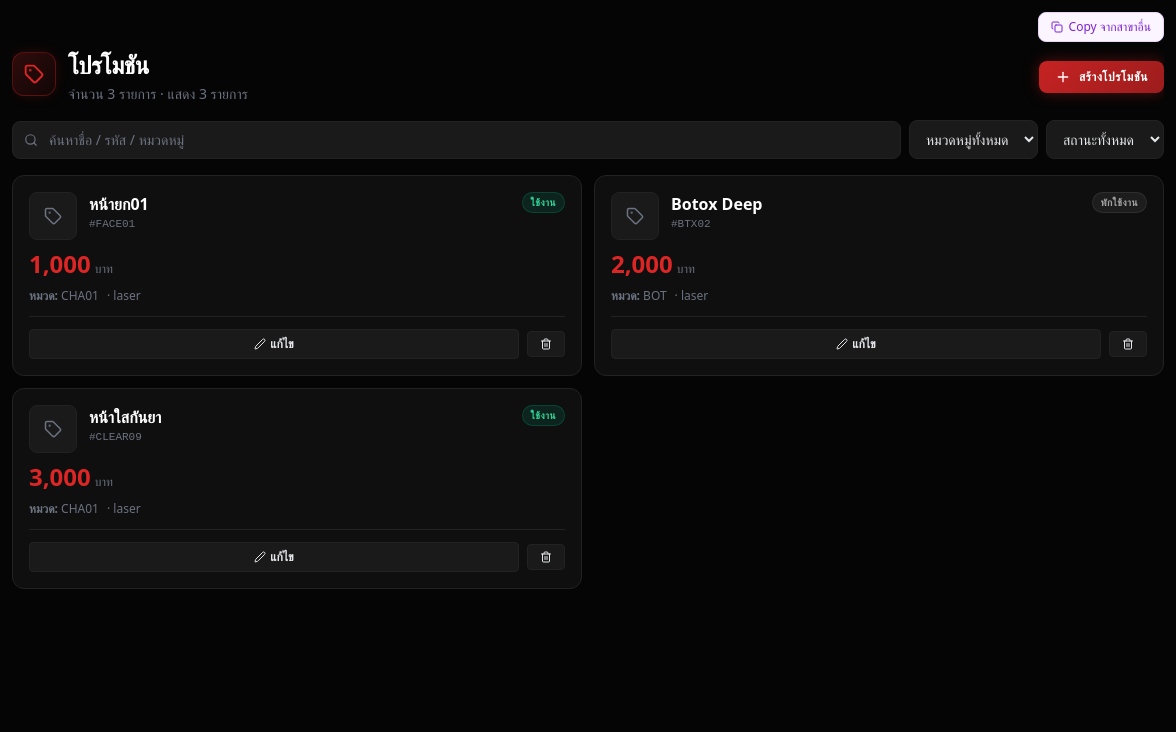
Test case: PromotionTab — search + filter › F6 status filter "suspended" shows only suspended
Select "พักใช้งาน" in the 2nd dropdown: point(1105, 140) x1=1046 y1=120 x2=1164 y2=159
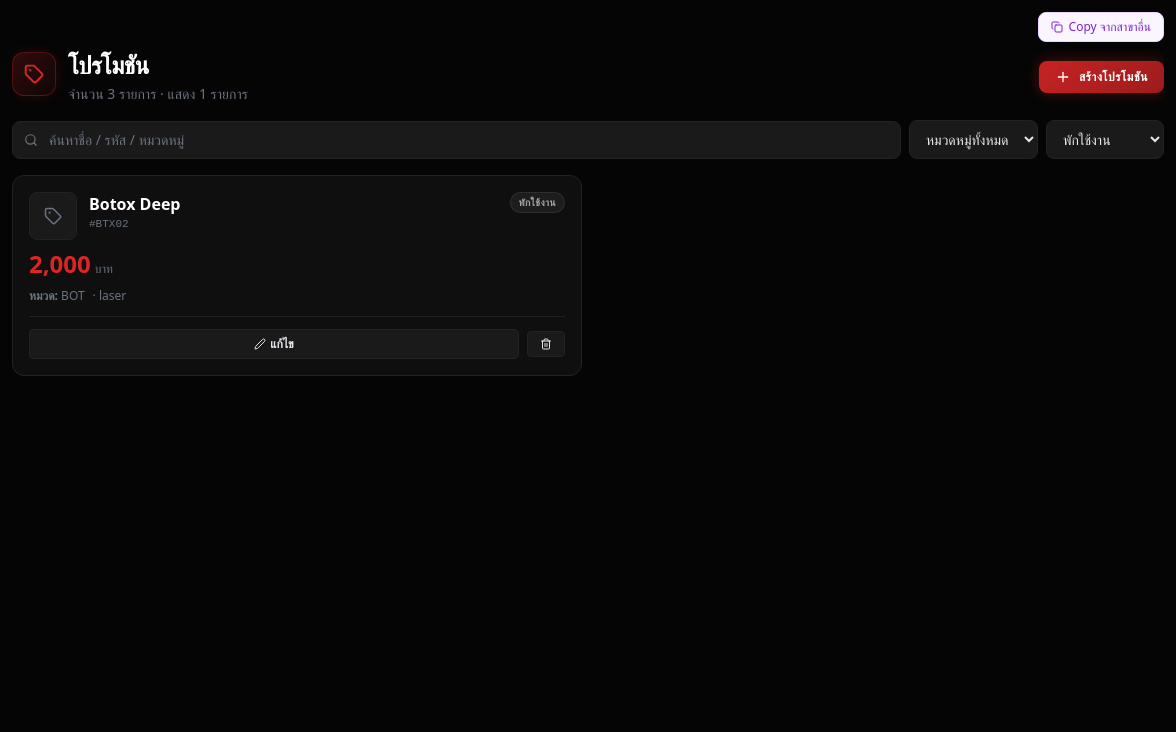
Expected: the heading "Botox Deep" is shown, x1=89 y1=193 x2=180 y2=215
Expected: the heading "หน้ายก01" is gone
